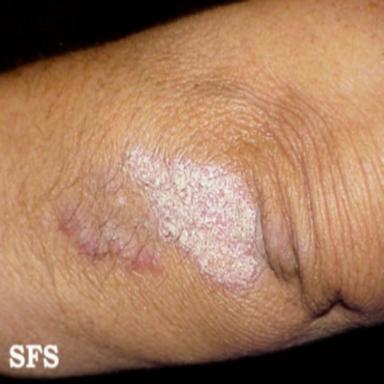Psoriasis: (126, 149, 264, 291), (65, 210, 166, 273)
